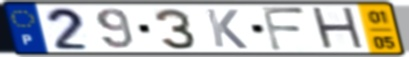2: (44, 4, 97, 53)
3: (152, 7, 198, 51)
9: (93, 7, 136, 51)
F: (259, 5, 309, 53)
H: (308, 6, 369, 53)
K: (203, 7, 250, 50)
